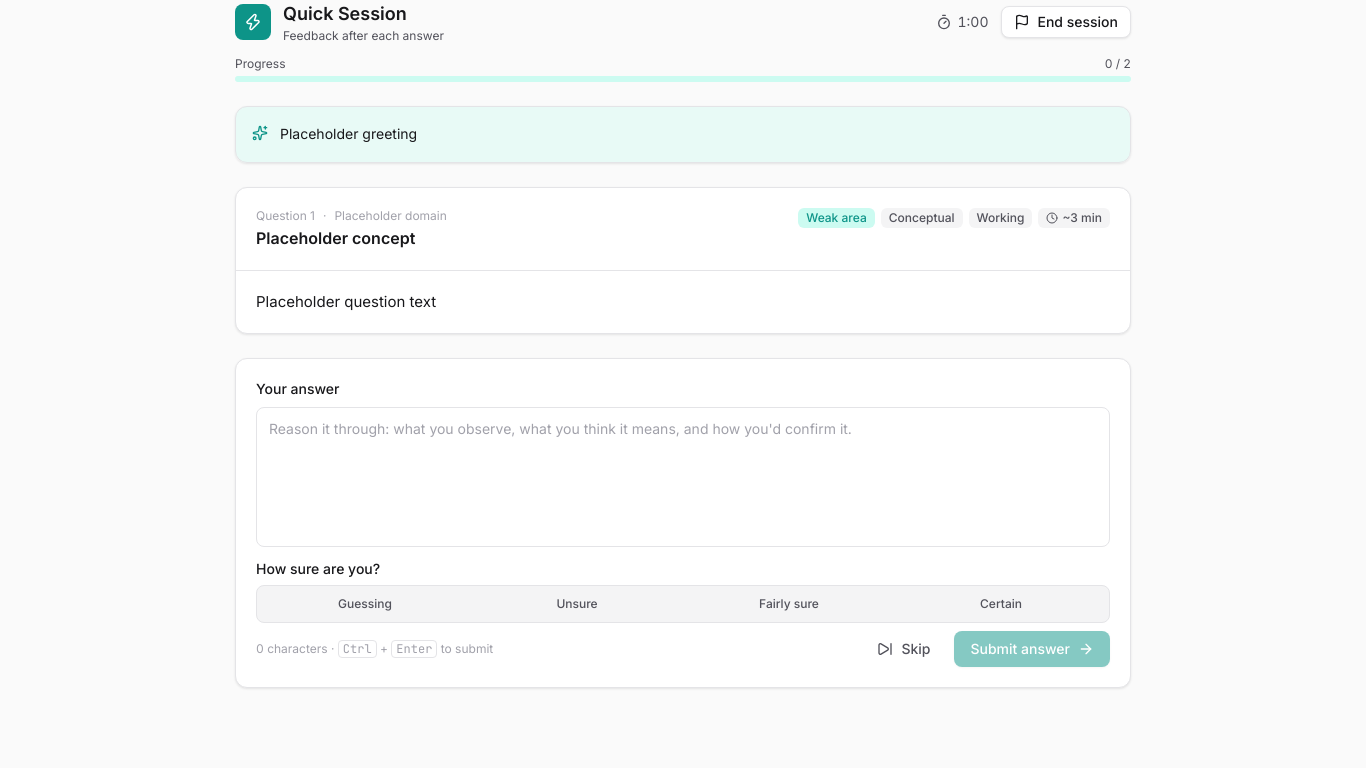
Test: SessionPage › ends early through the confirm dialog
Step 1. Click the button "End session" → (1066, 22), box [1000,6,1131,38]
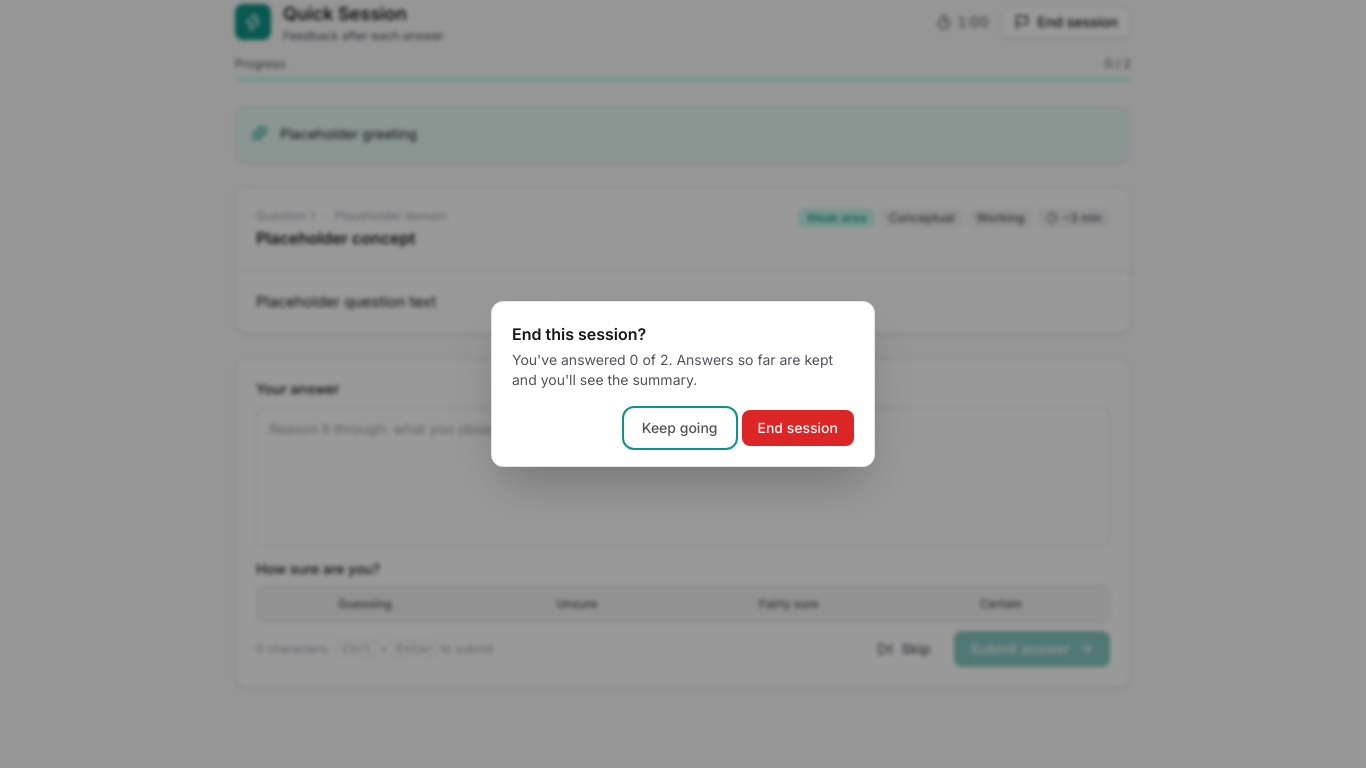
expect the heading "End this session?" is shown: met, box [512,324,646,344]
Step 2. Click the button "End session" → (798, 428), box [742,410,854,446]
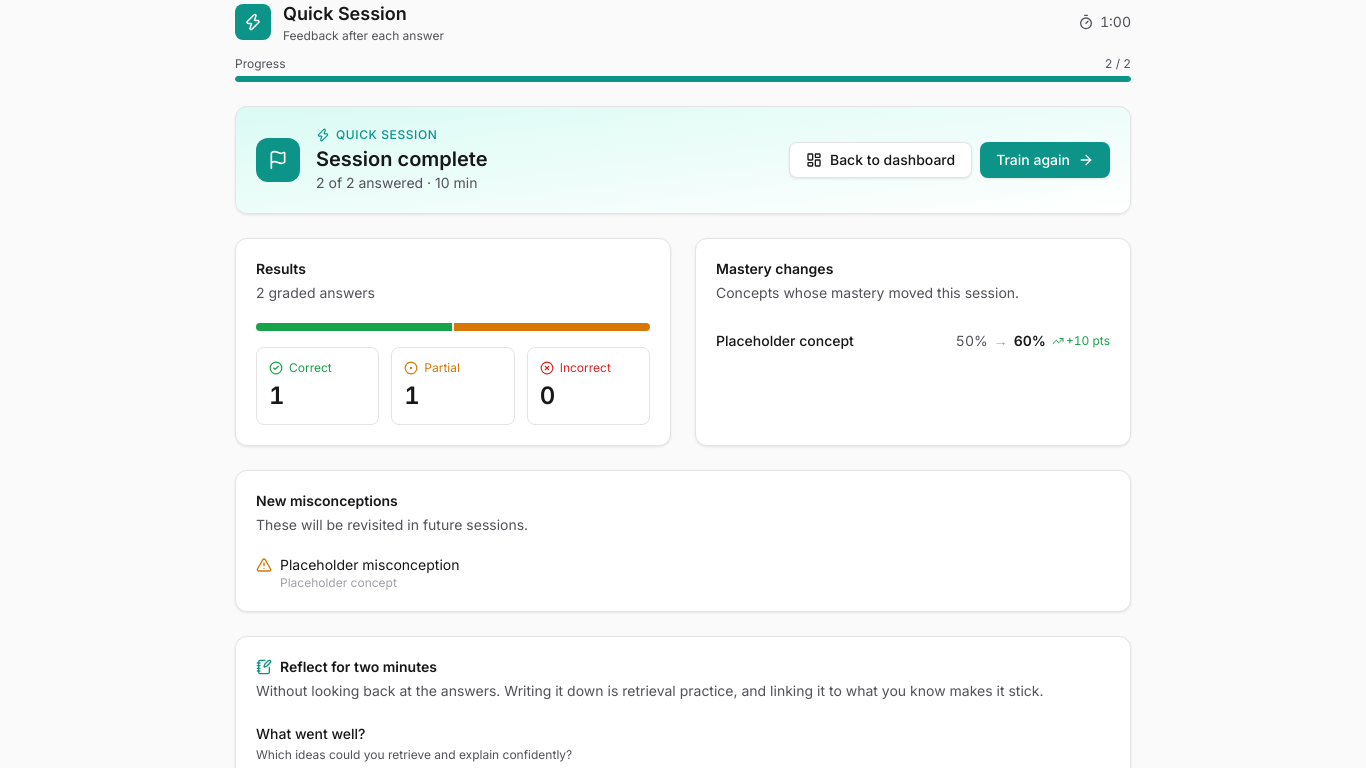
expect the heading "Session complete" is shown: met, box [316,147,488,171]
